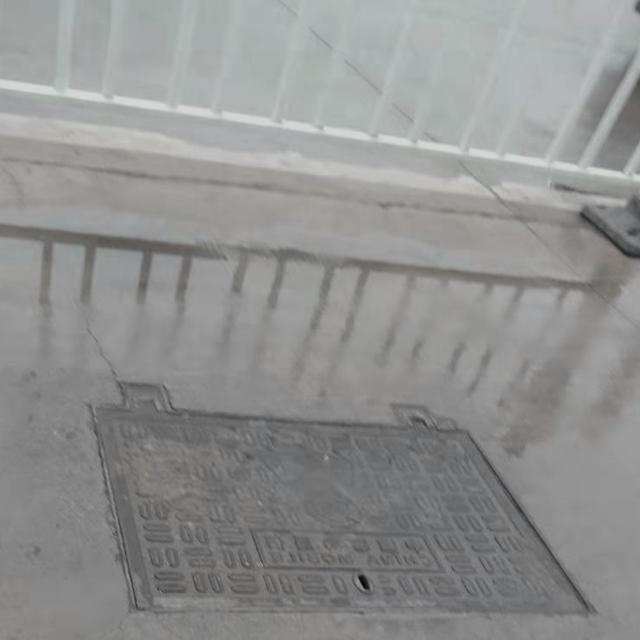good: (62, 392, 607, 630)
